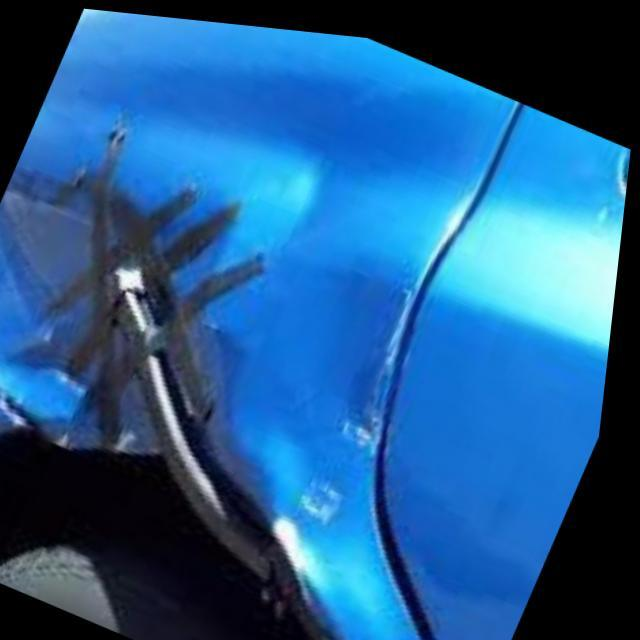dent: (297, 254, 426, 512)
dislocated part: (0, 123, 258, 468)
